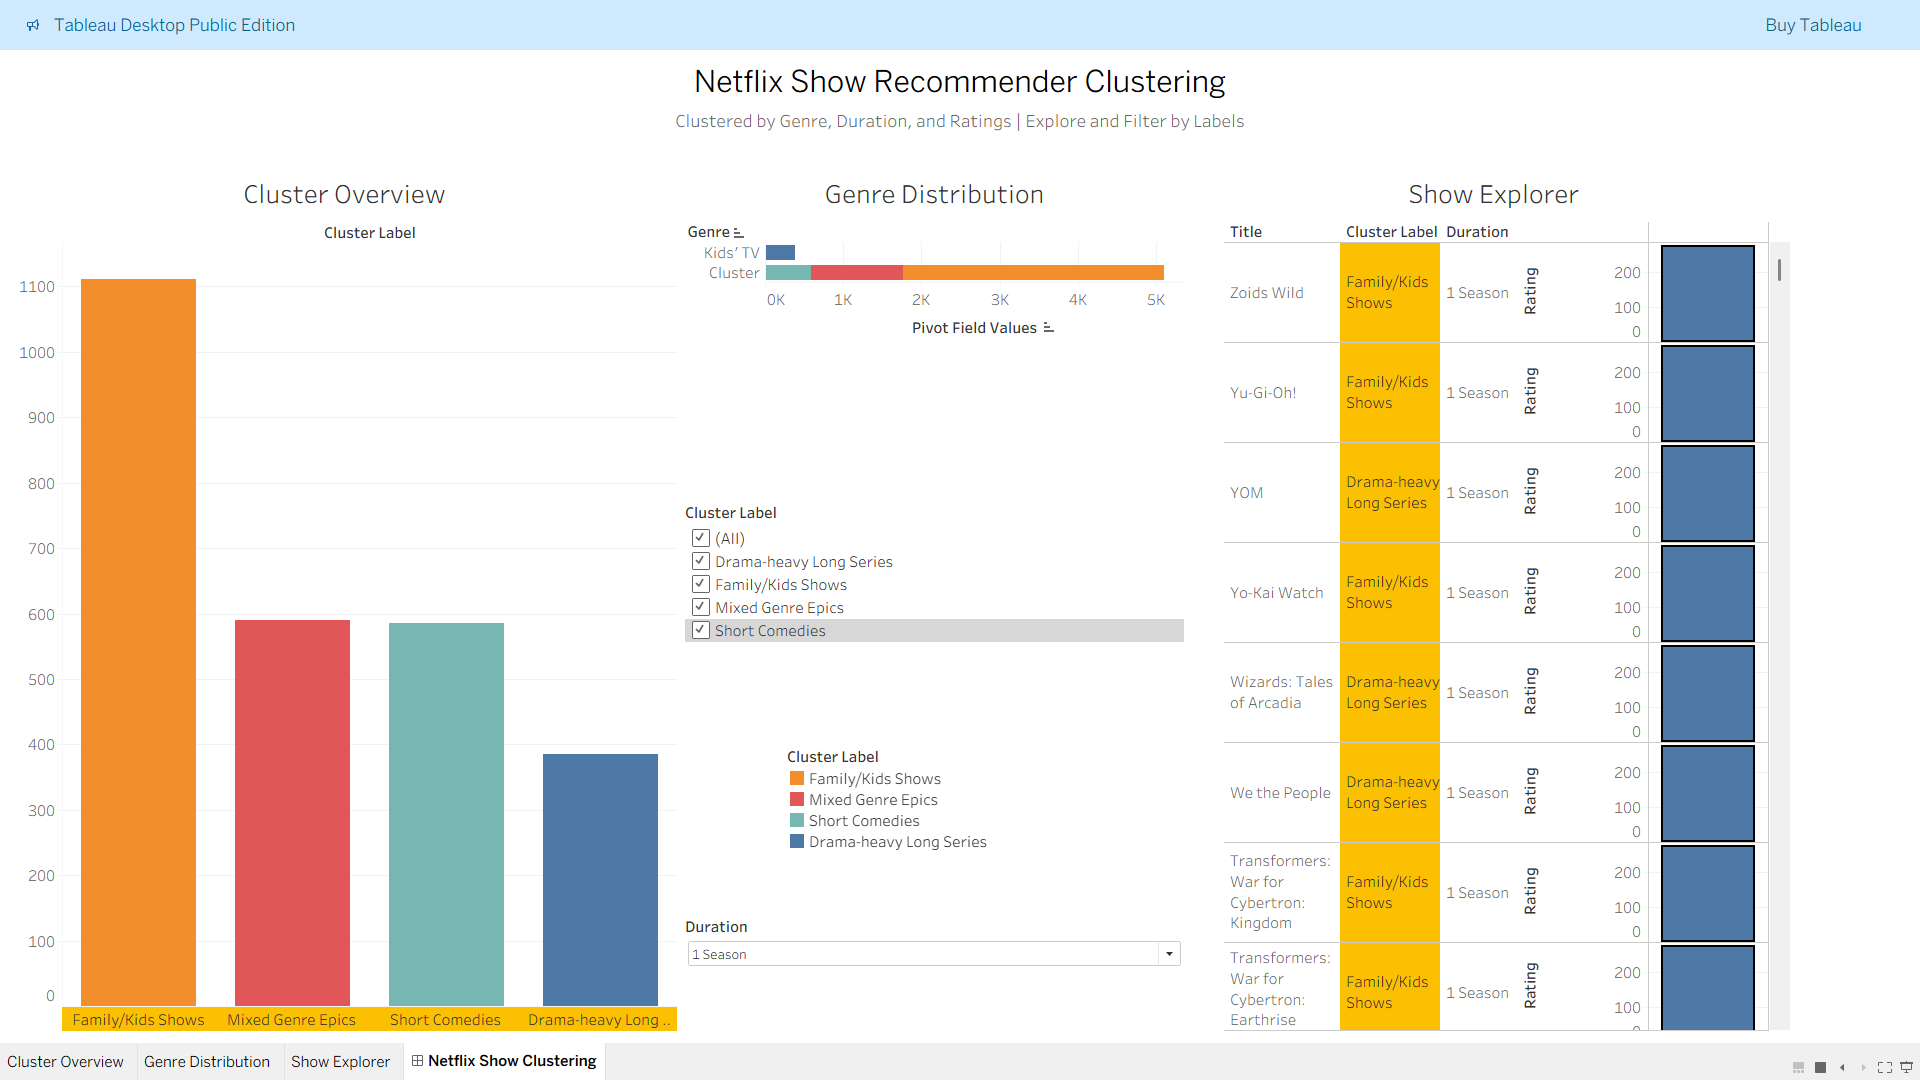

What the dashboard file says about the page in this screenshot:
{"tool":"tableau","page":{"name":"Netflix Show Clustering","canvas":[1000,1000],"units":"permille","ordinal":0},"visuals":[{"type":"title","box":[4.8,10,990.3,57.4]},{"type":"worksheet","title":"Sheet 1","mark":"Automatic","rows":["title"],"cols":["Cluster_Label"],"box":[4.8,67.4,272.5,922.6]},{"type":"worksheet","title":"Sheet 2","mark":"Automatic","rows":["Pivot Field Names"],"cols":["Pivot Field Values"],"box":[277.3,67.4,341.3,203.3]},{"type":"worksheet","title":"Sheet 3","mark":"Automatic","rows":["title","Cluster_Label","duration","rating"],"box":[618.6,67.4,376.6,922.6]},{"type":"filter","title":"Sheet 3","param":"[federated.05ypdsy0yqwj271a2681r0jzt462].[none:Cluster_Label:nk]","box":[277.3,270.7,341.3,238.6]},{"type":"legend","title":"Sheet 1","param":"[federated.05ypdsy0yqwj271a2681r0jzt462].[none:Cluster_Label:nk]","box":[277.3,509.3,341.3,157.3]}]}

Visuals, with their boxes on the dashboard's canvas, which has no fixed pixel size, in thousandths of its width and height (x1, y1, x2, y2). These are canvas units, not pixel positions in the 1920x1080 screenshot, which may show the page scaled, cropped or inside an application window:
title: locate(5, 10, 995, 67)
"Sheet 1" worksheet: locate(5, 67, 277, 990)
"Sheet 2" worksheet: locate(277, 67, 619, 271)
"Sheet 3" worksheet: locate(619, 67, 995, 990)
"Sheet 3" filter: locate(277, 271, 619, 509)
"Sheet 1" legend: locate(277, 509, 619, 667)
